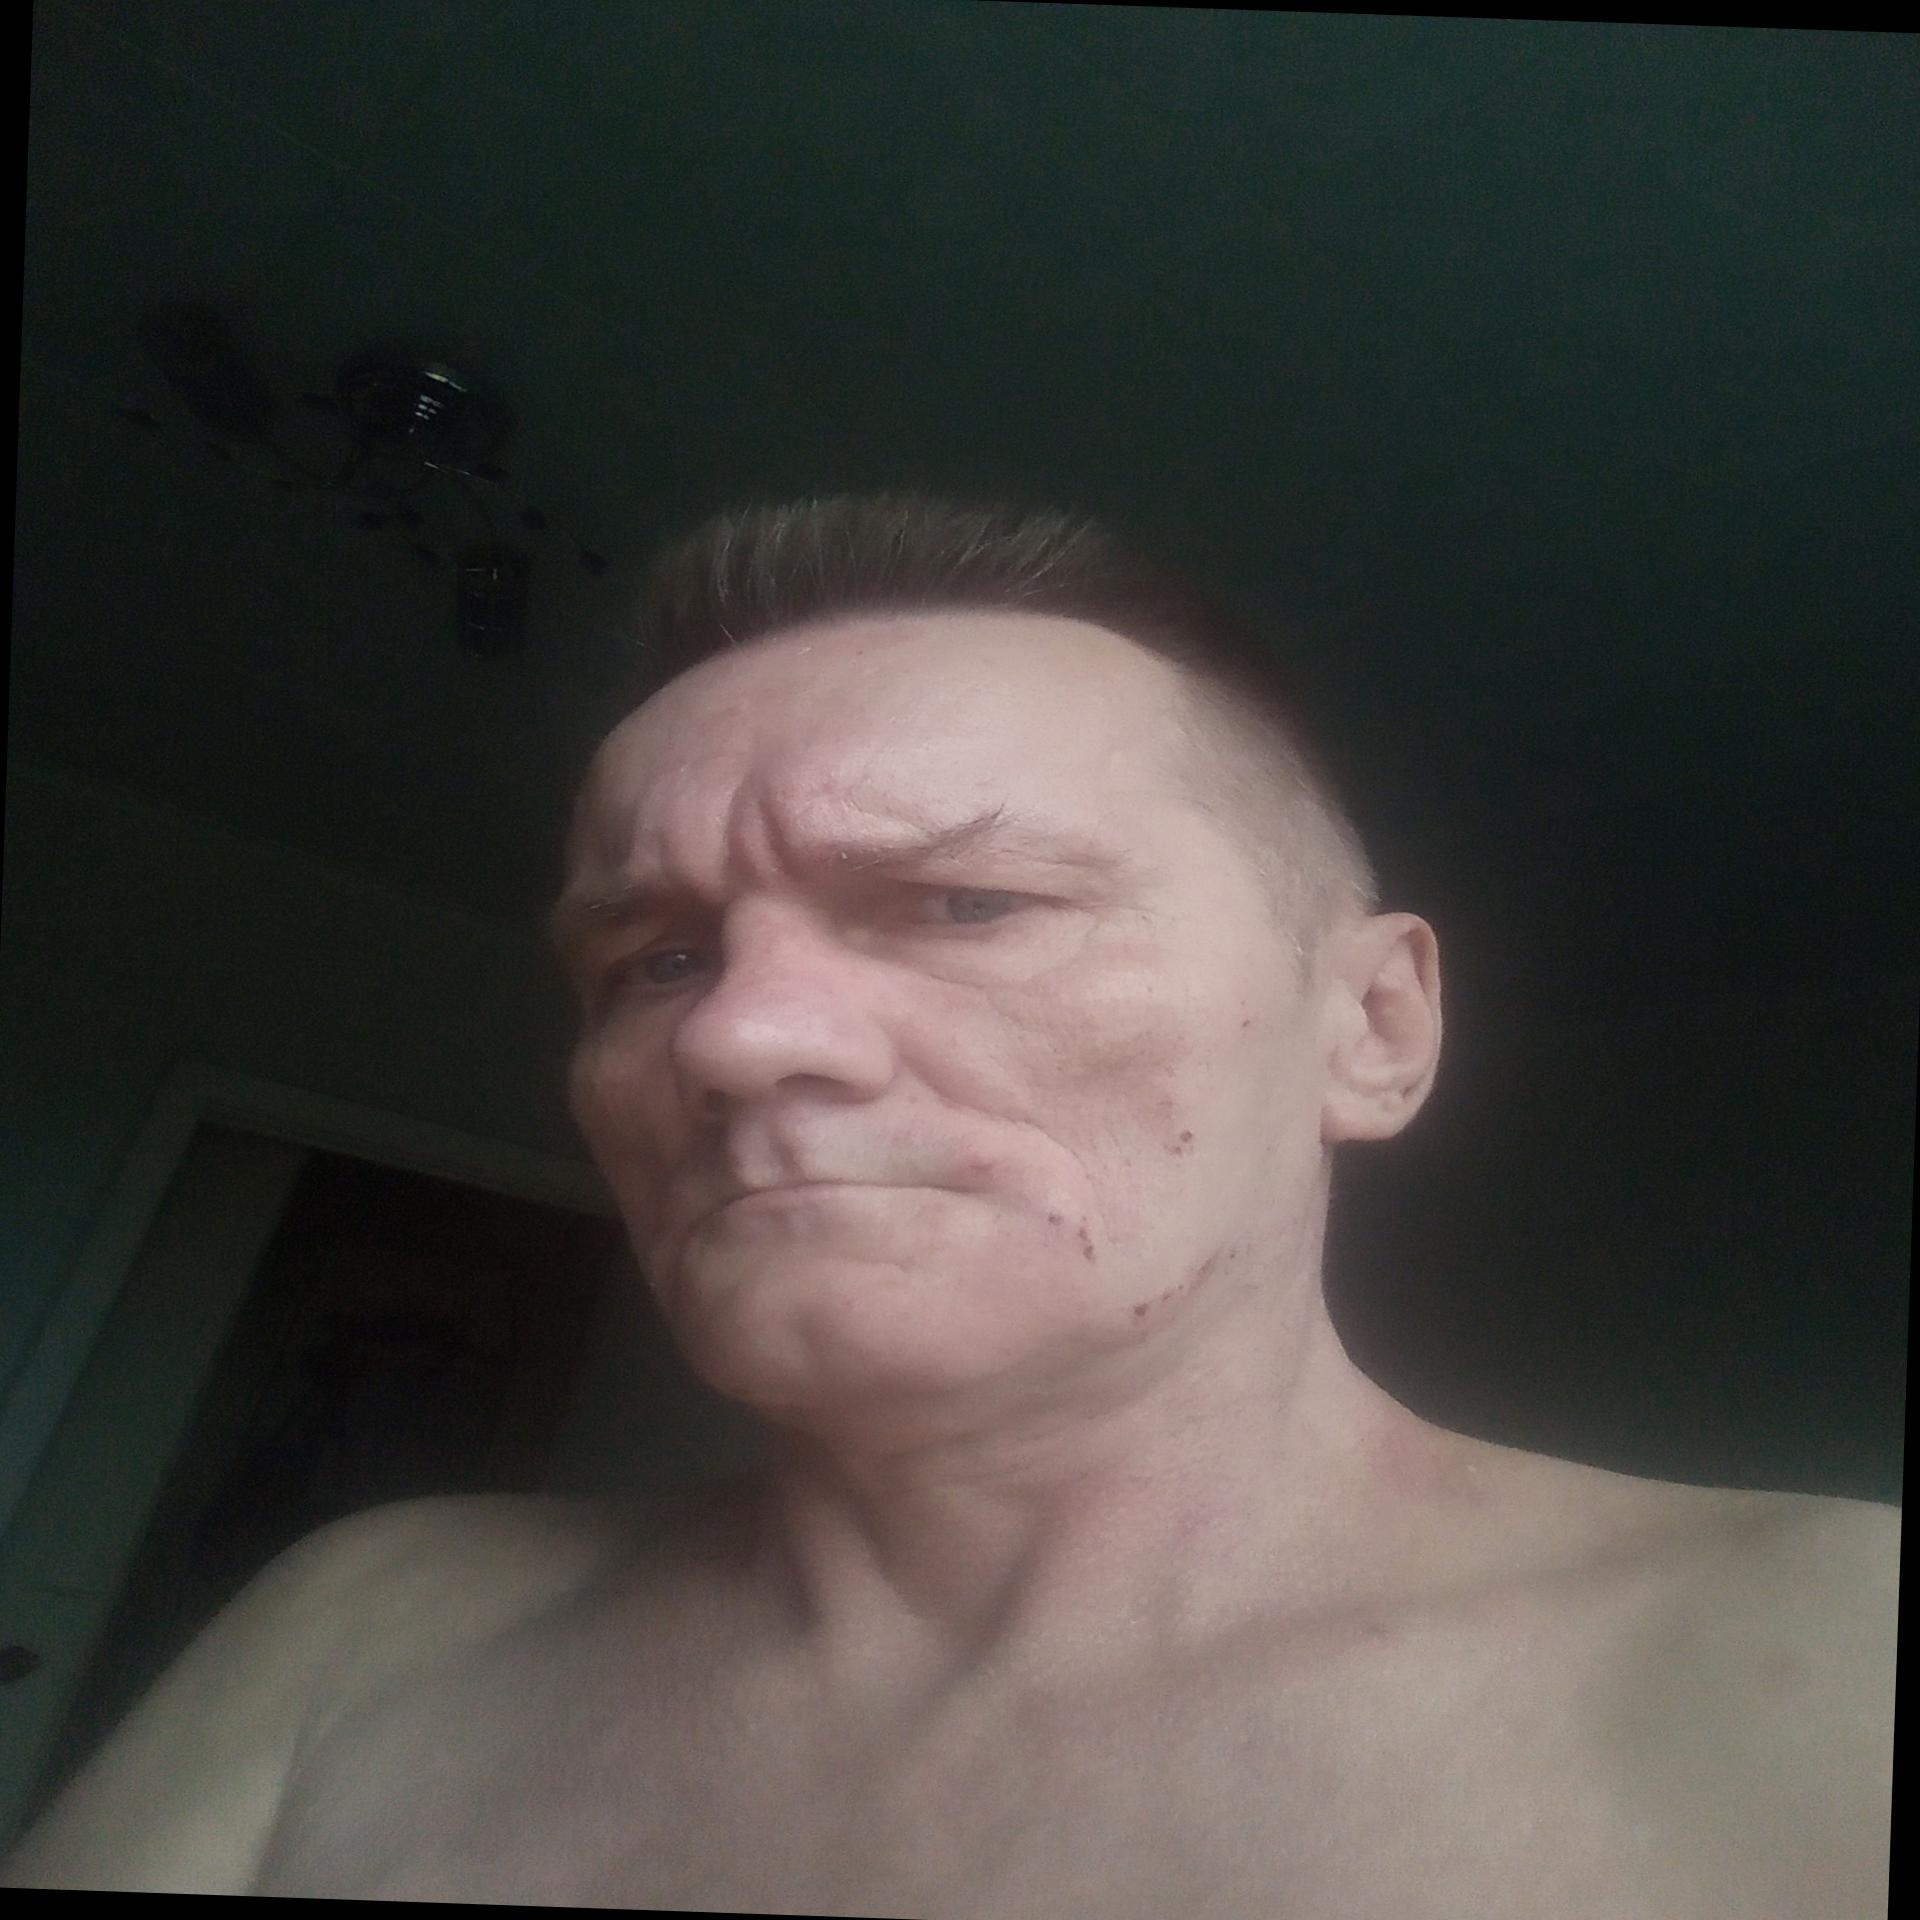Acne: (1064, 1215, 1118, 1266), (1167, 1122, 1204, 1157), (962, 1150, 1004, 1178), (1122, 1287, 1157, 1319), (1192, 1241, 1218, 1278), (1155, 1276, 1187, 1305), (1141, 1088, 1182, 1109), (1238, 1009, 1261, 1034), (1043, 1206, 1064, 1229), (1141, 981, 1162, 999)
Englarged Pores: (1027, 995, 1136, 1101)
Wrinkles: (656, 779, 811, 895), (1060, 1118, 1157, 1222), (930, 1078, 1071, 1141), (921, 969, 1060, 1032), (828, 1236, 953, 1291), (1081, 893, 1173, 953), (863, 788, 934, 839)
